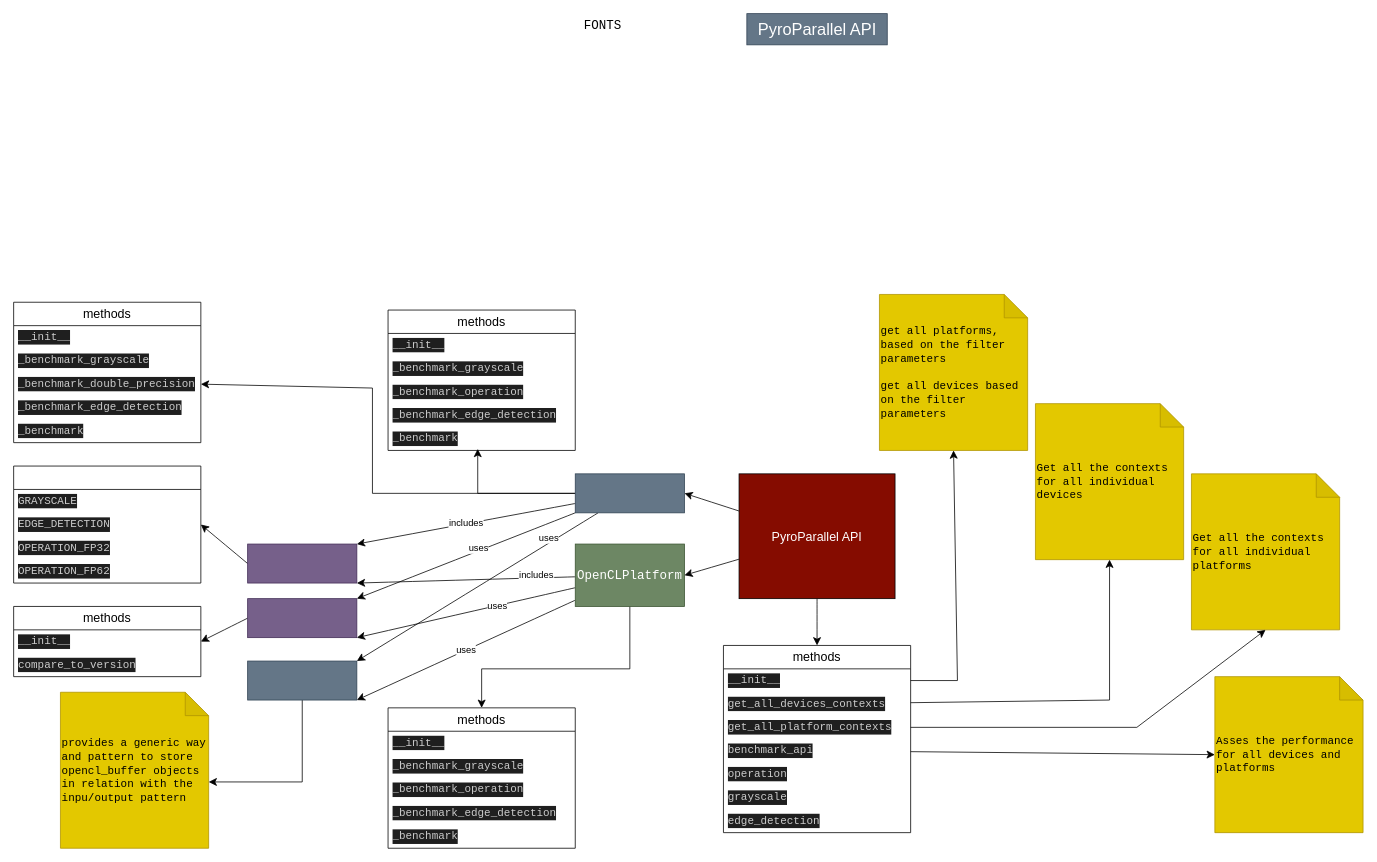
The diagram is 1377 pixels wide and 862 high, and some of its shapes have lost their labels. The shapes that lost their labels are listed below. From the top down, each one's box as (x1, y1, x2, y2) in pixels, then its label:
(574, 473, 684, 513): OpenCLDevice
(13, 465, 201, 583): kernels
(247, 543, 357, 583): OpenCLKernels
(247, 598, 357, 638): OpenCLVersion
(247, 660, 357, 700): OpenCLBuffer
